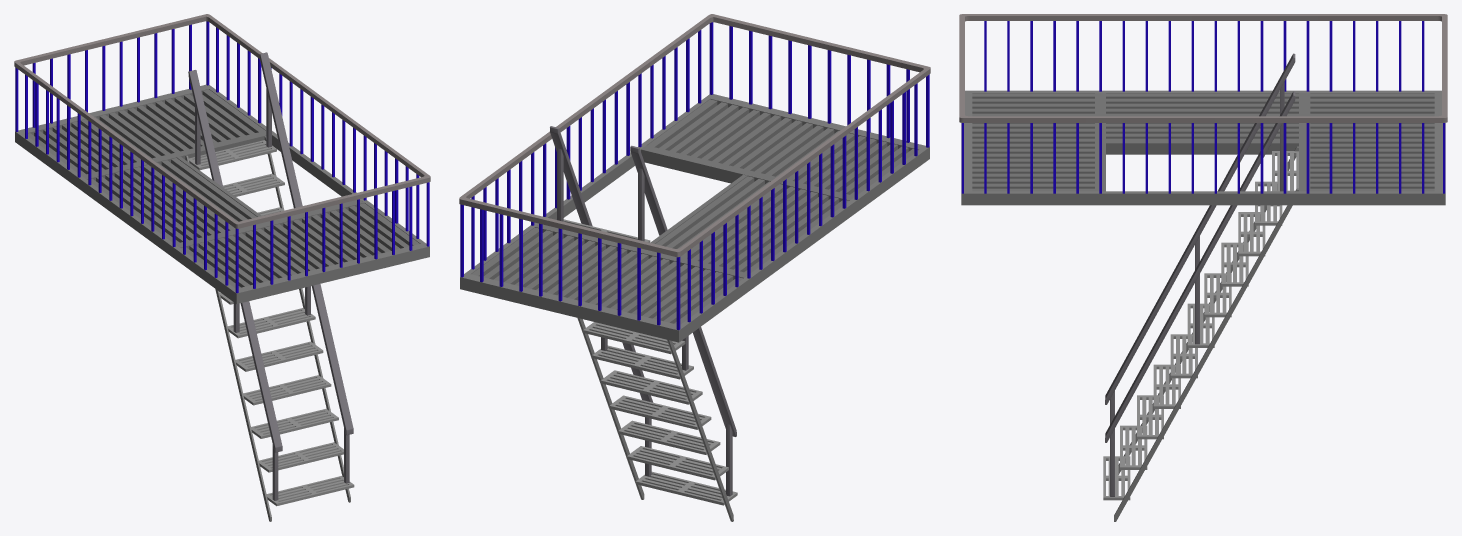
The model's file is metal-stairs.dae.
3 views of the same model, side by side, from view 1: azimuth 30°, elevation 25°; view 2: azimuth 150°, elevation 25°; view 3: azimuth 270°, elevation 25° (orthographic). The views are drawn at different scales.
Visible parts, largest first — view 1: Emergency_Stairs; view 2: Emergency_Stairs; view 3: Emergency_Stairs.
Part boxes in pixels (left/top/right/bottom): Emergency_Stairs: left=14, top=14, right=430, bottom=521; Emergency_Stairs: left=459, top=14, right=930, bottom=521; Emergency_Stairs: left=959, top=14, right=1447, bottom=521.
Bounding box in the file's own units: 2.95 × 5.84 × 5.62.
